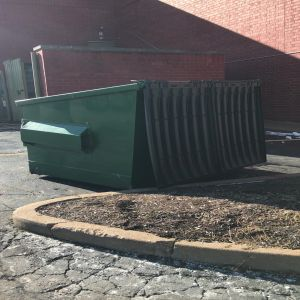Dumpster: (16, 76, 271, 188)
